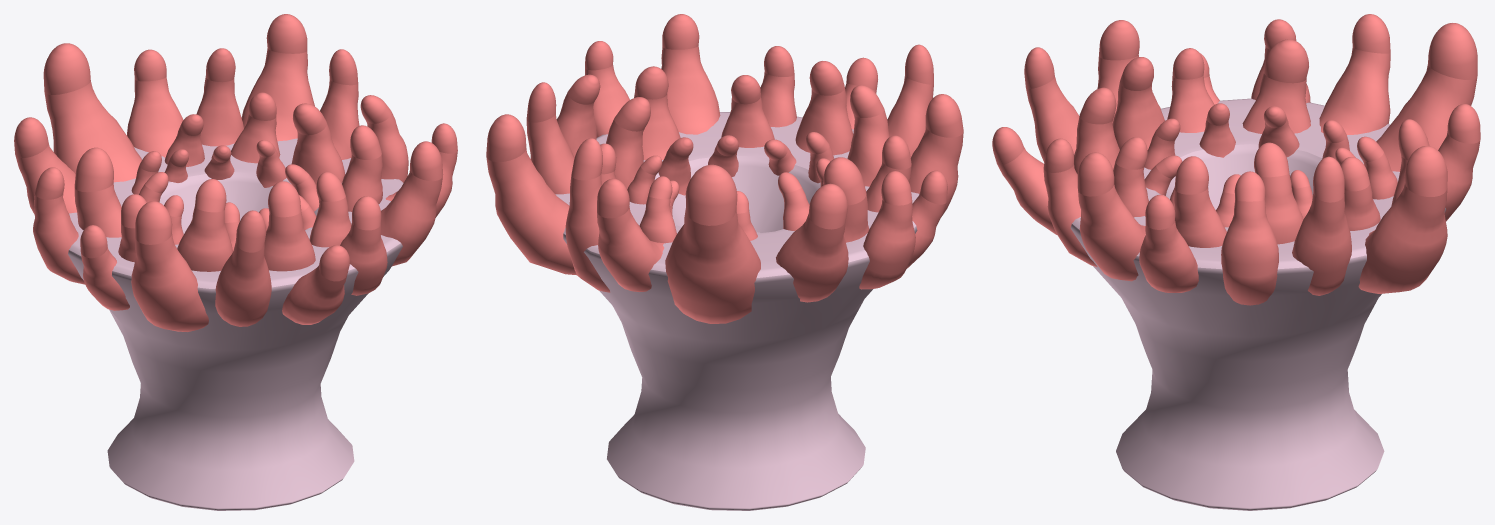
Rendered from coral_polyp.fbx.
3 renders of one model, left to right at view 1: azimuth 30°, elevation 25°; view 2: azimuth 150°, elevation 25°; view 3: azimuth 270°, elevation 25°, orthographic. The views are drawn at different scales.
Visible parts, largest first — view 1: pCylinder1, coralTop6, coralTop12, coralTop1, coralTop22, coralTop10, coralTop2, coralTop7, coralTop27, coralTop30, coralTop21, coralTop3 (+21 smaller); view 2: pCylinder1, coralTop6, coralTop1, coralTop9, coralTop10, coralTop2, coralTop7, coralTop3, coralTop12, coralTop4, coralTop30, coralTop22 (+19 smaller); view 3: pCylinder1, coralTop1, coralTop6, coralTop, coralTop10, coralTop9, coralTop4, coralTop11, coralTop29, coralTop22, coralTop28, coralTop17 (+19 smaller).
Boxes of the visible parts, x1,y1,x2,y2 form: pCylinder1: (68, 138, 403, 510); coralTop6: (43, 43, 141, 182); coralTop12: (131, 201, 208, 331); coralTop1: (241, 14, 314, 141); coralTop22: (215, 210, 271, 326); coralTop10: (381, 141, 443, 266); coralTop2: (127, 49, 183, 157); coralTop7: (33, 167, 84, 284); coralTop27: (177, 179, 232, 271); coralTop30: (264, 181, 315, 271); coralTop21: (282, 245, 349, 324); coralTop3: (196, 48, 243, 146); pCylinder1: (555, 112, 919, 510); coralTop6: (665, 164, 760, 323); coralTop1: (486, 114, 576, 275); coralTop9: (776, 183, 848, 302); coralTop10: (661, 14, 720, 134); coralTop2: (597, 178, 664, 291); coralTop7: (859, 171, 915, 289); coralTop3: (565, 138, 610, 292); coralTop12: (909, 94, 963, 216); coralTop4: (526, 82, 574, 194); coralTop30: (795, 61, 853, 155); coralTop22: (887, 44, 933, 157); pCylinder1: (1070, 98, 1446, 510); coralTop1: (1358, 146, 1447, 293); coralTop6: (1376, 23, 1477, 171); coralTop: (1221, 171, 1278, 305); coralTop10: (1077, 152, 1145, 281); coralTop9: (1319, 14, 1390, 135); coralTop4: (1292, 156, 1351, 295); coralTop11: (1139, 194, 1198, 292); coralTop29: (1242, 39, 1310, 133); coralTop22: (1024, 47, 1079, 162); coralTop28: (1174, 156, 1226, 247); coralTop17: (1043, 138, 1097, 267).
Size of the model in its own units: 3.94 by 3.78 by 4.22.
Materials: 2 (1 with a texture image).
